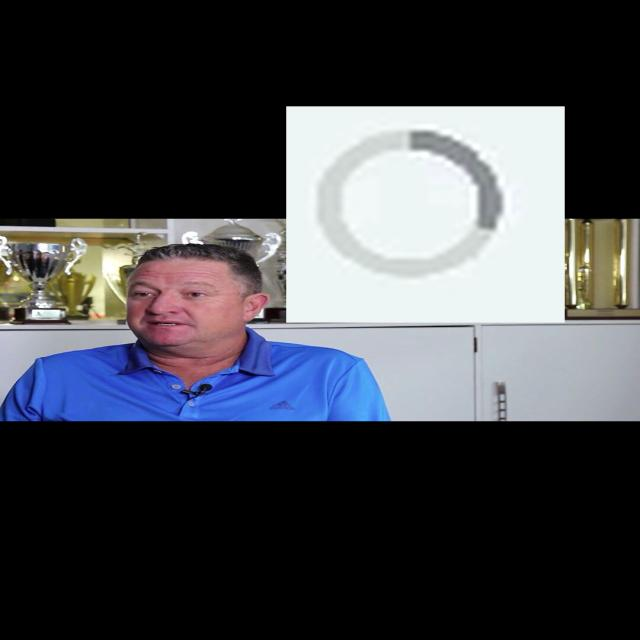misdirection: (286, 106, 565, 323)
